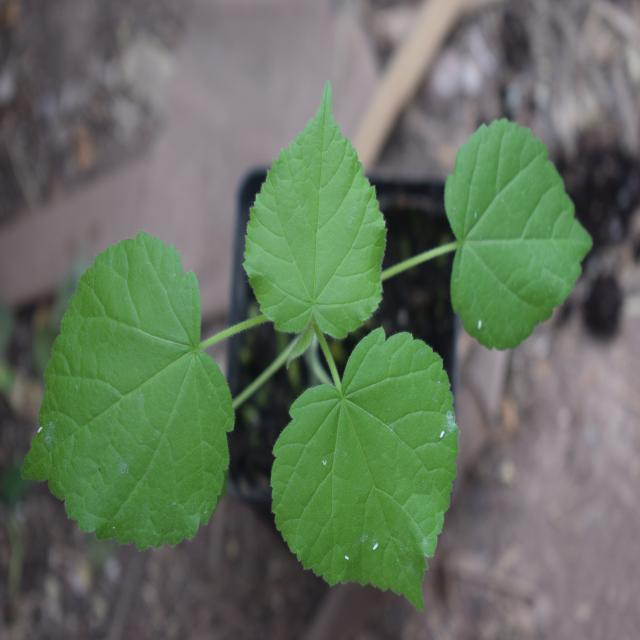abutilon theophrasti: (53, 100, 577, 606)
